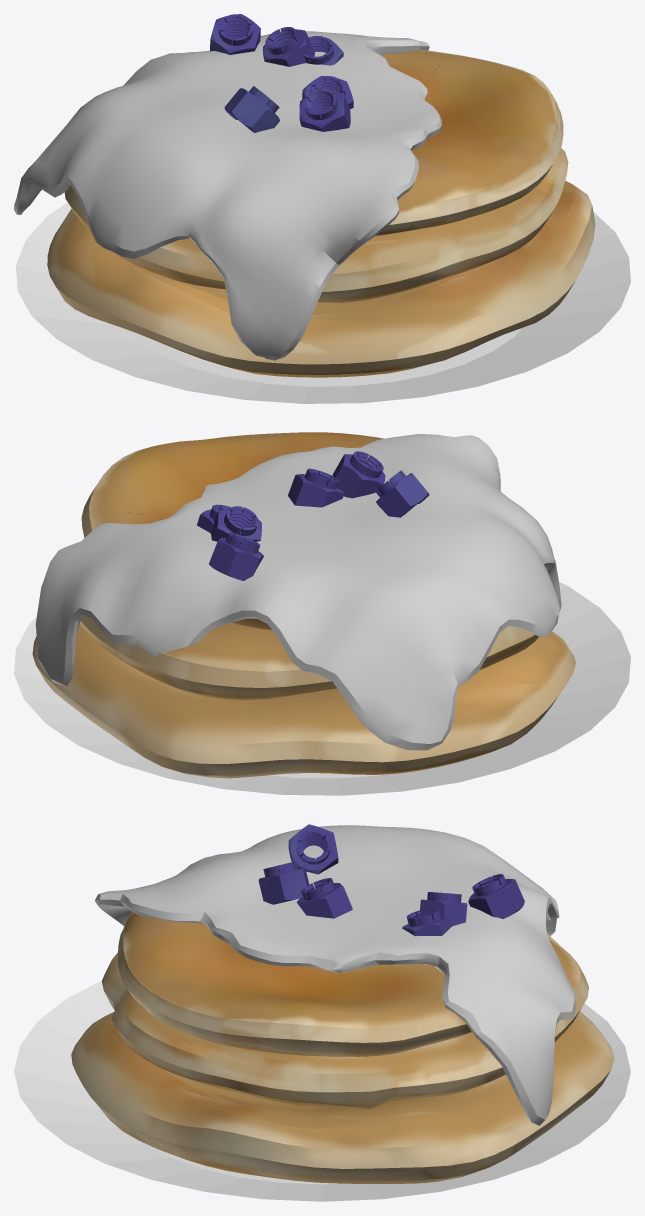
The model's file is muffin-over.fbx.
The picture shows the model from 3 angles, top to bottom: view 1: azimuth 30°, elevation 25°; view 2: azimuth 150°, elevation 25°; view 3: azimuth 270°, elevation 25°; orthographic projection.
Visible parts, largest first — view 1: 柱体.017, 平面.005, 柱体.010, 物件_6.001; view 2: 平面.005, 柱体.017, 柱体.010, 物件_6.001; view 3: 柱体.017, 平面.005, 柱体.010, 物件_6.001.
Part boxes in pixels (x1,y1,x2,y2): 柱体.017: (47, 49, 595, 377); 平面.005: (14, 31, 442, 360); 柱体.010: (16, 202, 630, 403); 物件_6.001: (210, 14, 353, 132); 平面.005: (35, 434, 561, 750); 柱体.017: (32, 432, 575, 778); 柱体.010: (14, 582, 630, 795); 物件_6.001: (197, 451, 429, 580); 柱体.017: (71, 912, 614, 1183); 平面.005: (95, 825, 575, 1125); 柱体.010: (14, 980, 630, 1201); 物件_6.001: (258, 824, 524, 936).
Bounding box in the file's own units: 274 × 125 × 274.
